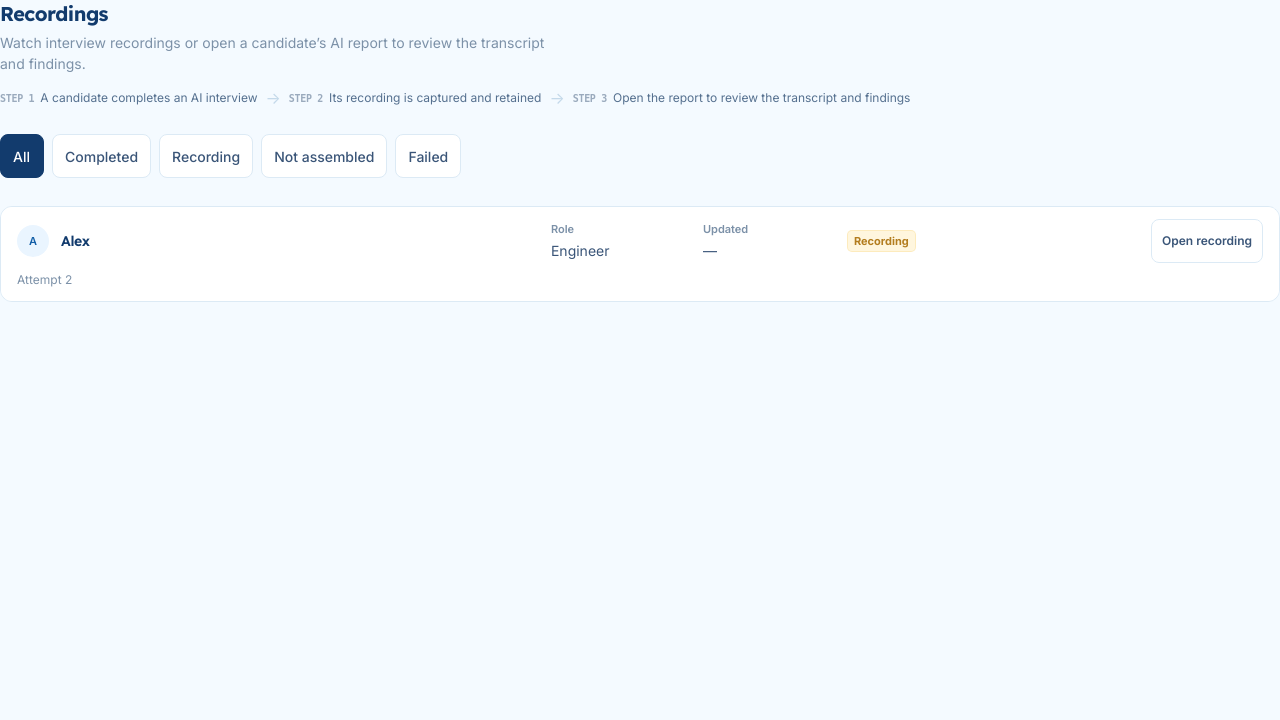
Test: opens a library recording in place and links to the matching AI report attempt
This screenshot has width=1280, height=720.
Click the button with aria-label "Open recording for Alex, attempt 2". click: point(1207, 241)
box: [1151, 219, 1263, 263]
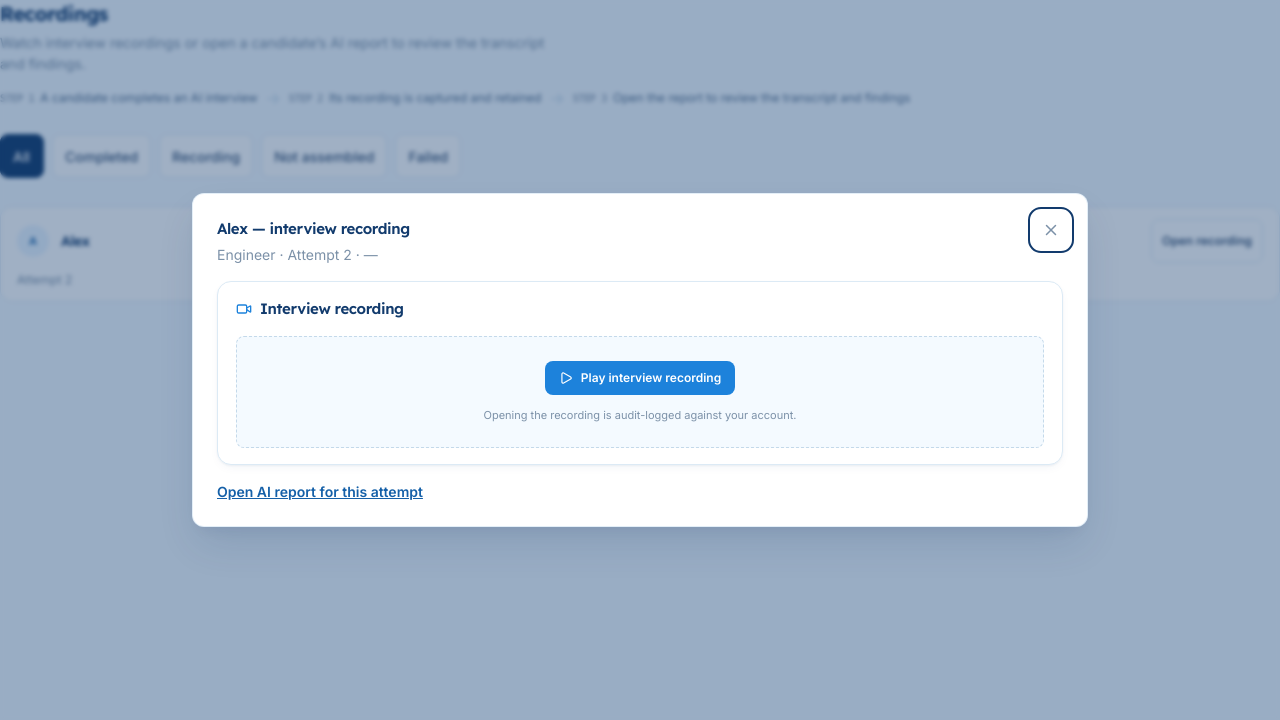
Check: the dialog is shown, box [192, 193, 1088, 527]
Check: the button "Play interview recording" is shown, box [545, 360, 735, 394]
